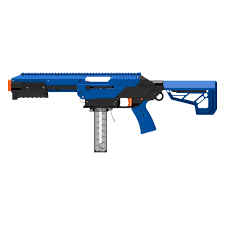Arma Falsa: (6, 70, 220, 157)
